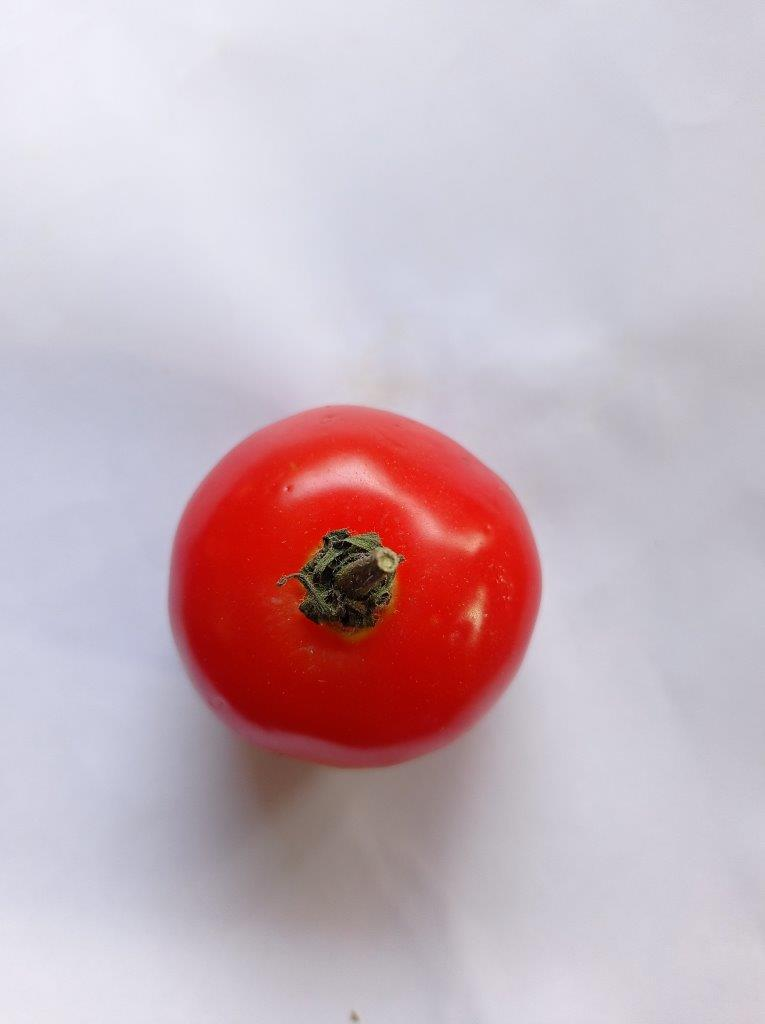tomato: (169, 406, 540, 767)
